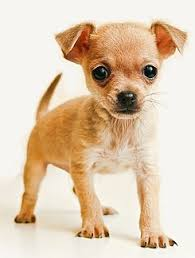chihuahua: (10, 17, 195, 251)
